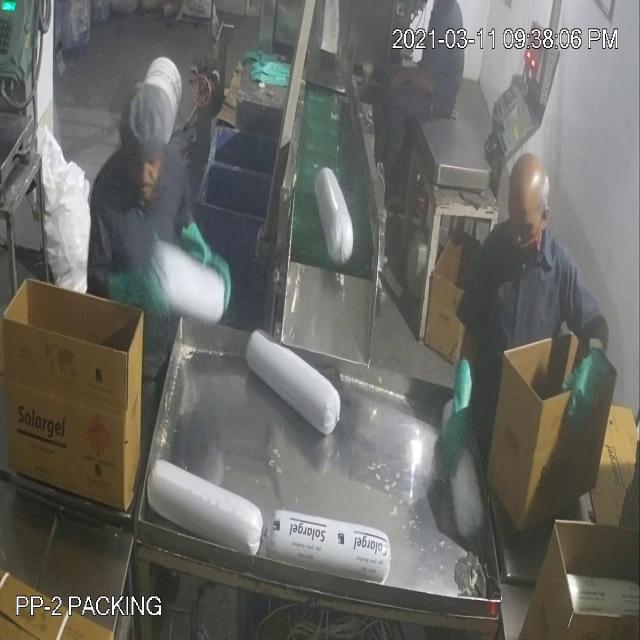gloves: (558, 335, 614, 448), (437, 348, 478, 487)
no-gloves: (389, 57, 443, 109)
